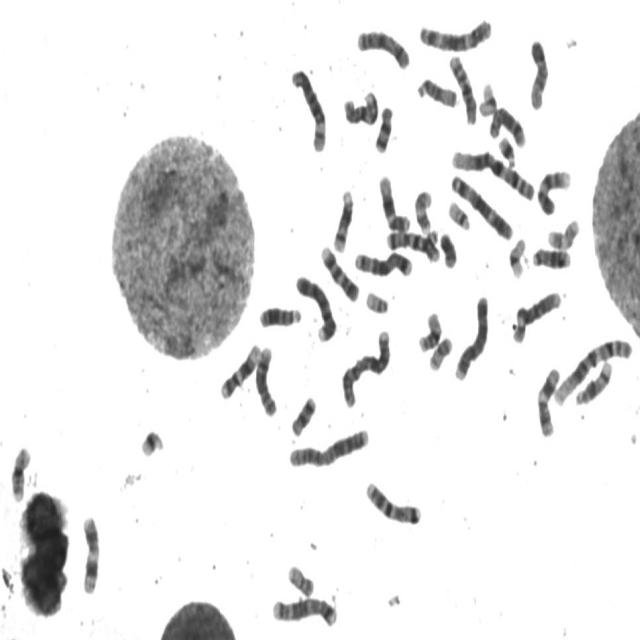A1: (551, 334, 634, 408), (448, 145, 536, 204)
A2: (339, 325, 392, 410), (286, 423, 371, 471)
A3: (447, 170, 514, 242), (416, 14, 494, 54)
B4: (452, 291, 490, 383), (293, 271, 338, 344)
B5: (269, 593, 338, 629), (352, 248, 413, 279)
C10: (446, 51, 478, 126), (341, 86, 380, 128)
C11: (534, 363, 562, 439), (78, 512, 102, 596)
C12: (218, 339, 262, 402), (376, 172, 412, 234)
C6: (288, 64, 328, 154), (510, 288, 562, 346)
C7: (362, 477, 423, 527), (383, 227, 441, 264)
C8: (252, 342, 278, 419), (487, 102, 527, 149)
C9: (318, 242, 360, 304), (535, 165, 573, 216)
D13: (256, 302, 303, 330), (530, 244, 572, 271)
D14: (573, 358, 614, 407), (331, 186, 355, 255)
D15: (522, 36, 550, 110), (414, 73, 459, 110)
E16: (8, 442, 32, 502), (416, 308, 444, 354)
E17: (546, 215, 580, 251), (412, 186, 434, 236)
E18: (288, 392, 318, 438), (372, 102, 394, 155)
F19: (507, 233, 528, 280), (476, 78, 498, 120)
F20: (426, 332, 454, 373), (285, 561, 315, 599)
G21: (138, 425, 165, 459), (496, 133, 516, 170)
G22: (446, 197, 472, 231), (363, 287, 390, 315)
X: (354, 26, 412, 72)
Y: (438, 229, 458, 270)
